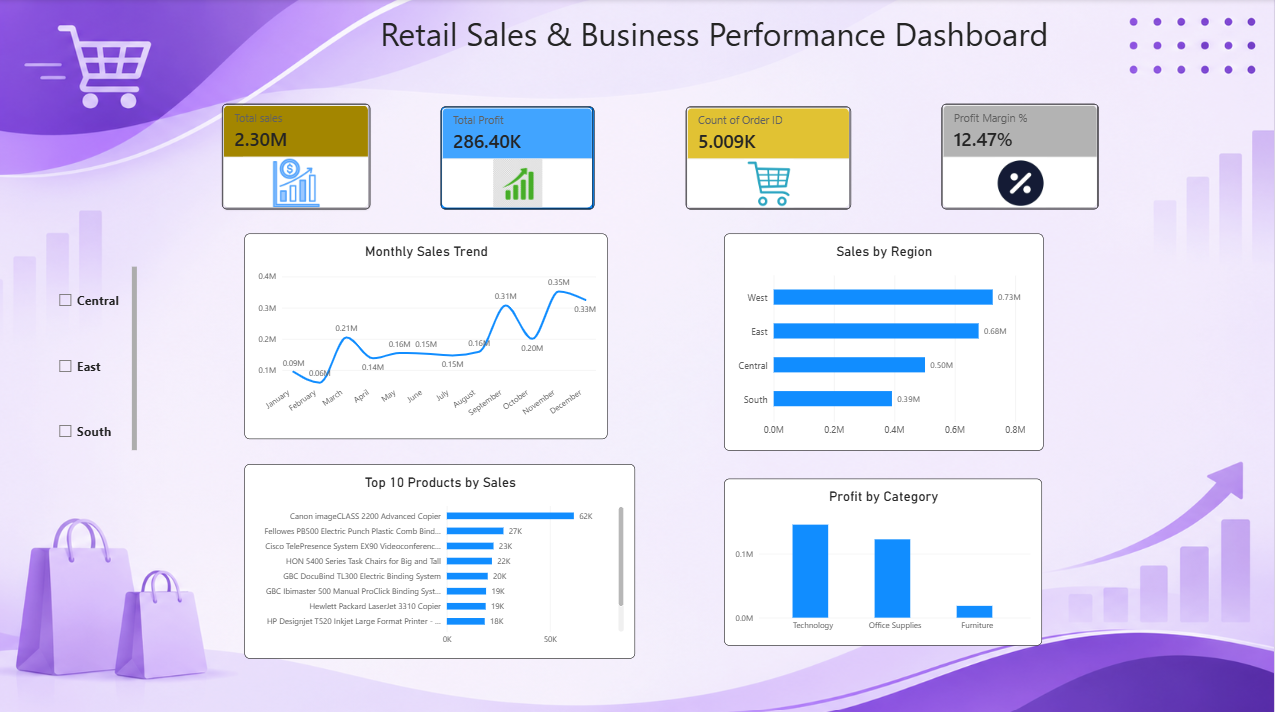

What the dashboard file says about the page in this screenshot:
{"tool":"powerbi","page":{"name":"Page 1","canvas":[1920,1080],"ordinal":0},"visuals":[{"type":"cardVisual","title":"Total sales","fields":{"Data":["Sum(Sample - Superstore.Sales)"]},"box":[337,157.5,223.3,159.5],"z":0},{"type":"cardVisual","fields":{"Data":["Sum(Sample - Superstore.Profit)"]},"box":[666.1,161.5,231.3,155.5],"z":1},{"type":"cardVisual","fields":{"Data":["Count(Sample - Superstore.Order ID)"]},"box":[1035,161.5,249.3,155.5],"z":2},{"type":"cardVisual","fields":{"Data":["Sample - Superstore.Profit Margin %"]},"box":[1419.9,157.5,237.3,159.5],"z":3},{"type":"lineChart","title":"Monthly Sales Trend","fields":{"Category":["Sample - Superstore.Order Date.Variation.Date Hierarchy.Month"],"Y":["Sum(Sample - Superstore.Sales)"]},"box":[370.9,353,546.4,309.1],"z":4},{"type":"barChart","title":"Sales by Region","fields":{"Category":["Sample - Superstore.Region"],"Y":["Sum(Sample - Superstore.Sales)"]},"box":[1092.8,353,480.6,327],"z":5},{"type":"clusteredColumnChart","title":"Profit by Category","fields":{"Category":["Sample - Superstore.Category"],"Y":["Sum(Sample - Superstore.Profit)"]},"box":[1092.8,721.9,478.6,251.3],"z":6},{"type":"clusteredBarChart","title":"Top 10 Products by Sales","fields":{"Category":["Sample - Superstore.Product Name"],"Y":["Sum(Sample - Superstore.Sales)"]},"box":[370.9,700,588.3,293.1],"z":7},{"type":"textbox","box":[466.6,17.9,1222.4,77.8],"z":8},{"type":"slicer","fields":{"Values":["Sample - Superstore.Region"]},"box":[83.8,402.8,125.6,331],"z":9}]}

Visuals, with their boxes in screenshot pixels (x1, y1, x2, y2), scaled from the page's 1920x1080 canvas onto the 1275x712 screenshot:
"Total sales" cardVisual: select_region(224, 104, 372, 209)
cardVisual - Sum(Sample - Superstore.Profit): select_region(442, 106, 596, 209)
cardVisual - Count(Sample - Superstore.Order ID): select_region(687, 106, 853, 209)
cardVisual - Sample - Superstore.Profit Margin %: select_region(943, 104, 1100, 209)
"Monthly Sales Trend" lineChart: select_region(246, 233, 609, 436)
"Sales by Region" barChart: select_region(726, 233, 1045, 448)
"Profit by Category" clusteredColumnChart: select_region(726, 476, 1044, 642)
"Top 10 Products by Sales" clusteredBarChart: select_region(246, 461, 637, 655)
textbox: select_region(310, 12, 1122, 63)
slicer - Sample - Superstore.Region: select_region(56, 266, 139, 484)
